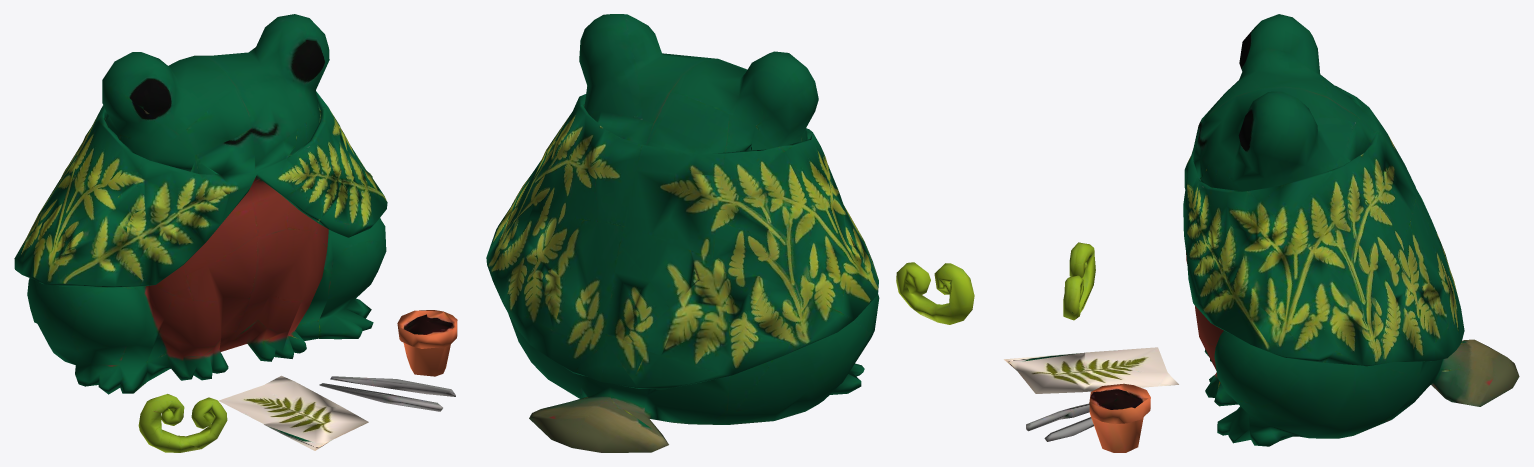
Rendered from fougere.glb.
The picture shows the model from 3 angles, left to right: view 1: azimuth 30°, elevation 25°; view 2: azimuth 150°, elevation 25°; view 3: azimuth 270°, elevation 25°; orthographic projection. The views are drawn at different scales.
Parts seen in each view (by area): view 1: mesh_node; view 2: mesh_node; view 3: mesh_node.
Part boxes in pixels (x1,y1,x2,y2): mesh_node: (14, 14, 457, 452); mesh_node: (486, 14, 974, 452); mesh_node: (1004, 14, 1519, 452).
Size of the model in its own units: 1.5 by 1.3 by 1.89.
1 material, 1 textured.
